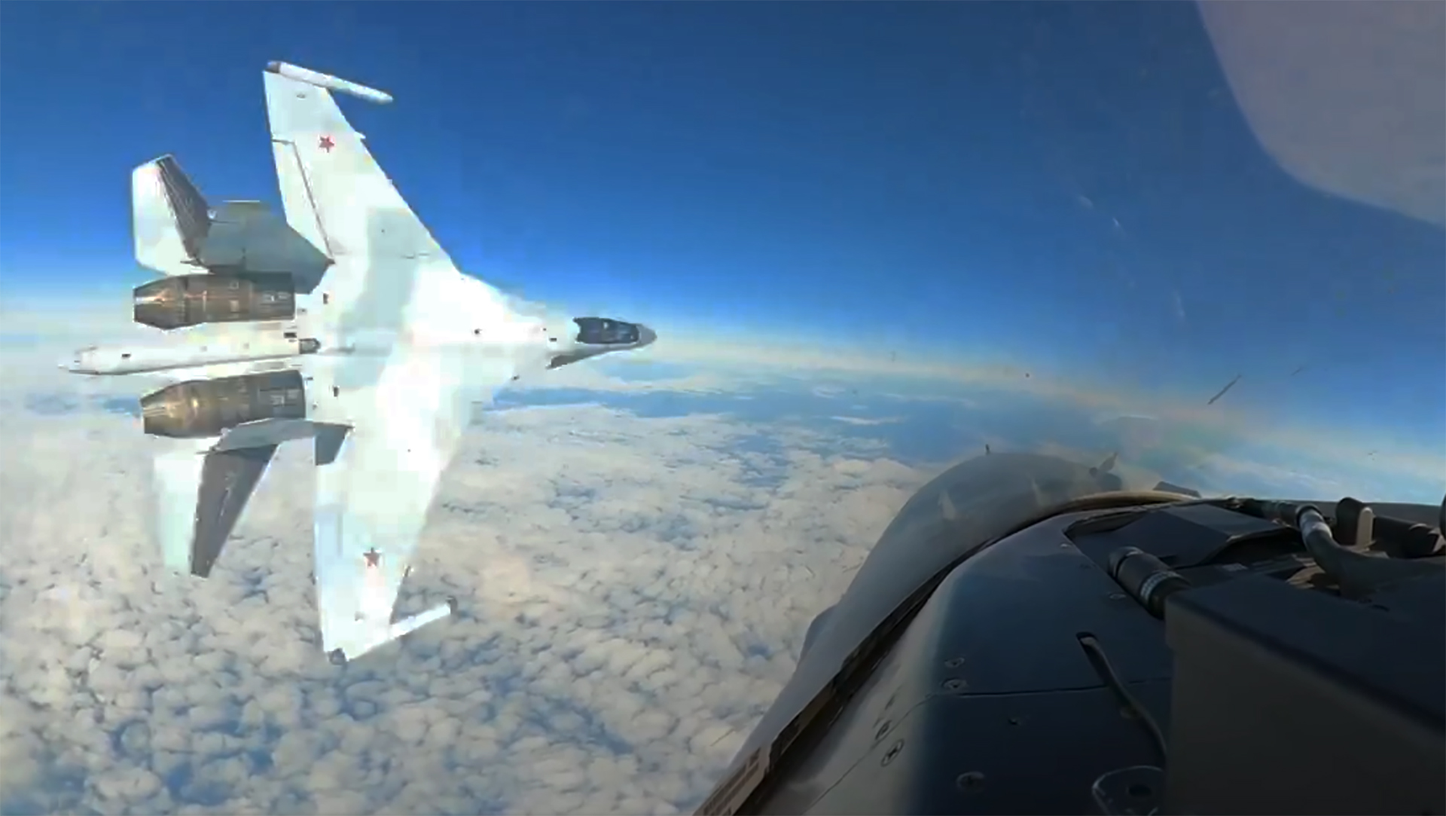Su35: (45, 48, 667, 676)
